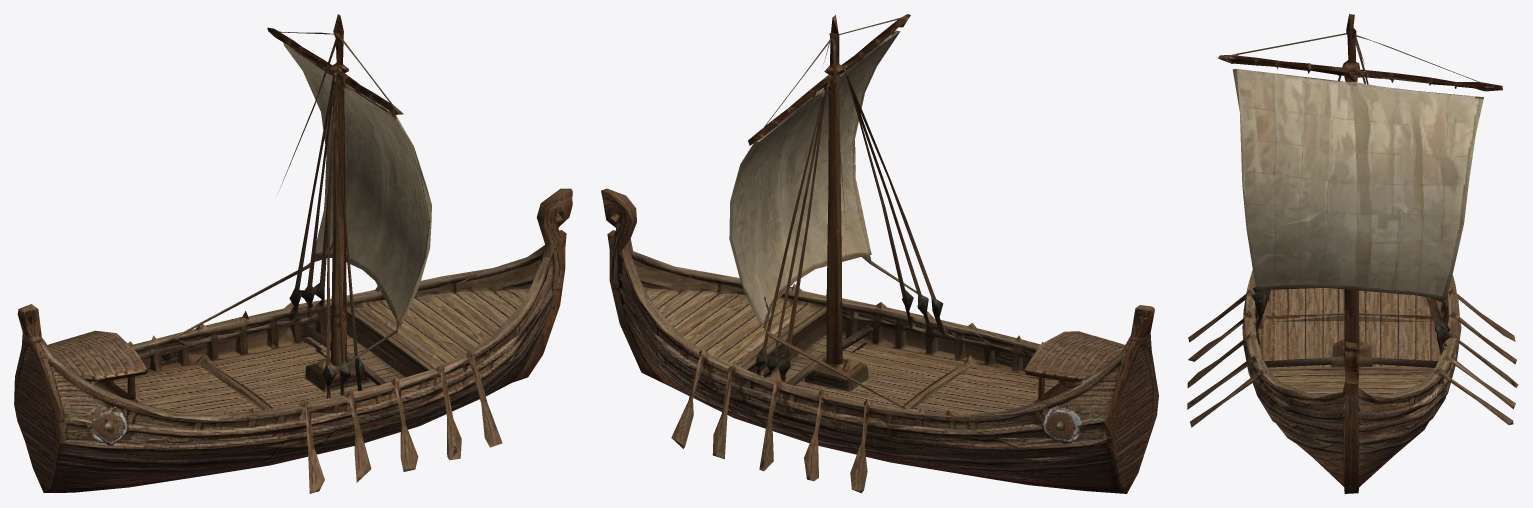
The model's file is longship.glb.
3 renders of one model, left to right at view 1: azimuth 30°, elevation 25°; view 2: azimuth 150°, elevation 25°; view 3: azimuth 270°, elevation 25°, orthographic. The views are drawn at different scales.
Visible parts, largest first — view 1: longship_export; view 2: longship_export; view 3: longship_export.
Part boxes in pixels (x1=…): longship_export: x1=14, y1=14, x2=572, y2=493; longship_export: x1=601, y1=14, x2=1158, y2=493; longship_export: x1=1187, y1=14, x2=1518, y2=493.
Size of the model in its own units: 30 by 21.06 by 16.03.
1 material, 1 textured.
